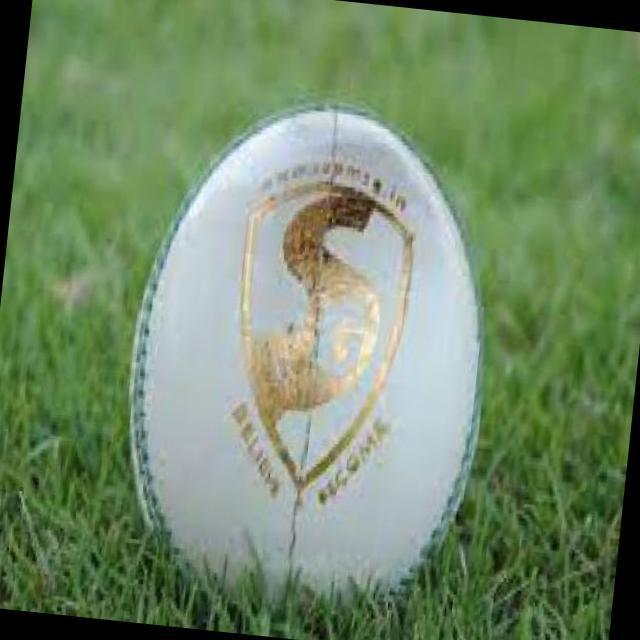-: (121, 114, 506, 625)
